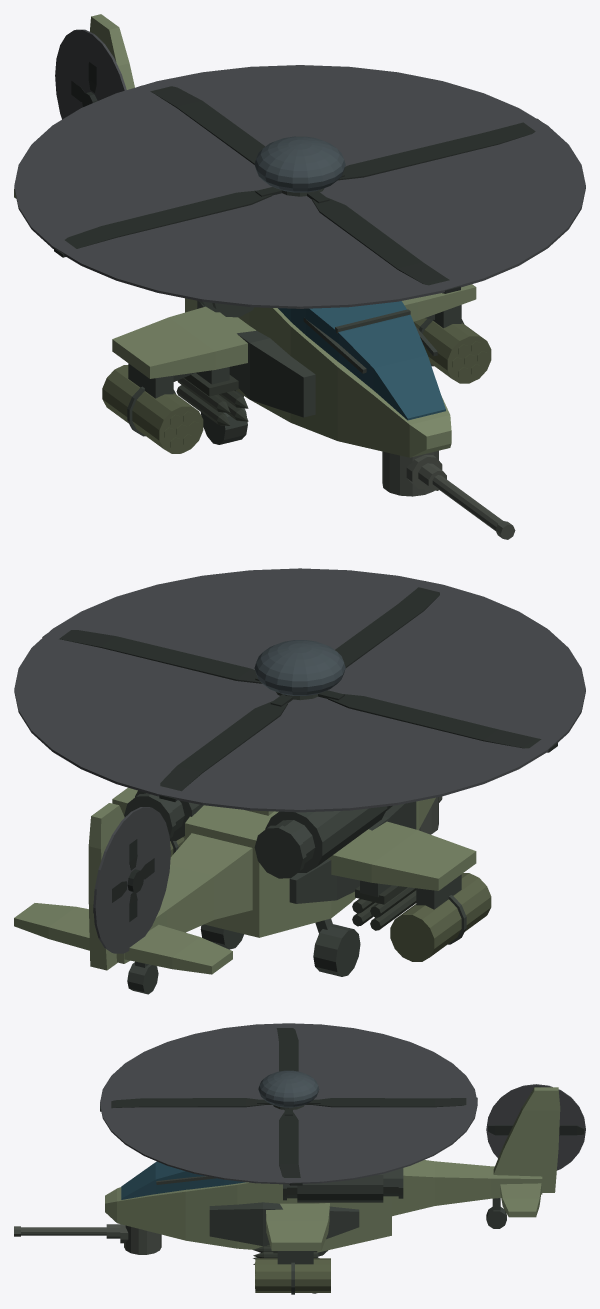
The model's file is AH64.pre_transform_normalize_0116a.fbx.
3 views of the same model, one above another, from view 1: azimuth 30°, elevation 25°; view 2: azimuth 150°, elevation 25°; view 3: azimuth 270°, elevation 25° (orthographic). The views are drawn at different scales.
Parts seen in each view (by area): view 1: RotorBlurMain, Airframe, MainRotor, AirframeDark, Canopy, PodRocketR, RadarDome, RotorBlurTail, PodRocketL, PodMissileR, ChinTurret, ChinBarrel; view 2: RotorBlurMain, Airframe, AirframeDark, MainRotor, RotorBlurTail, PodRocketR, RadarDome, PodMissileR, TailRotor; view 3: RotorBlurMain, Airframe, AirframeDark, MainRotor, RotorBlurTail, PodRocketL, Canopy, RadarDome, ChinBarrel, ChinTurret, TailRotor.
Boxes of the visible parts, x1,y1,x2,y2 form: RotorBlurMain: [14, 65, 585, 308]; Airframe: [14, 14, 476, 457]; MainRotor: [54, 86, 539, 293]; AirframeDark: [127, 188, 463, 444]; Canopy: [278, 301, 445, 420]; PodRocketR: [102, 365, 203, 453]; RadarDome: [254, 136, 345, 192]; RotorBlurTail: [55, 29, 126, 119]; PodRocketL: [414, 318, 491, 383]; PodMissileR: [176, 373, 248, 425]; ChinTurret: [382, 450, 442, 496]; ChinBarrel: [418, 463, 515, 539]; RotorBlurMain: [14, 568, 585, 812]; Airframe: [14, 787, 476, 974]; AirframeDark: [124, 692, 466, 994]; MainRotor: [42, 587, 557, 801]; RotorBlurTail: [93, 807, 170, 953]; PodRocketR: [390, 873, 491, 961]; RadarDome: [254, 640, 345, 695]; PodMissileR: [352, 885, 416, 930]; TailRotor: [93, 839, 154, 921]; RotorBlurMain: [100, 1023, 477, 1184]; Airframe: [105, 1087, 560, 1252]; AirframeDark: [156, 1104, 506, 1294]; MainRotor: [100, 1028, 477, 1185]; RotorBlurTail: [486, 1084, 585, 1170]; PodRocketL: [255, 1258, 330, 1292]; Canopy: [121, 1161, 245, 1199]; RadarDome: [258, 1070, 319, 1107]; ChinBarrel: [14, 1224, 120, 1238]; ChinTurret: [120, 1224, 161, 1254]; TailRotor: [488, 1086, 584, 1135].
Bounding box in the file's own units: 4.4 × 2.52 × 6.66.
